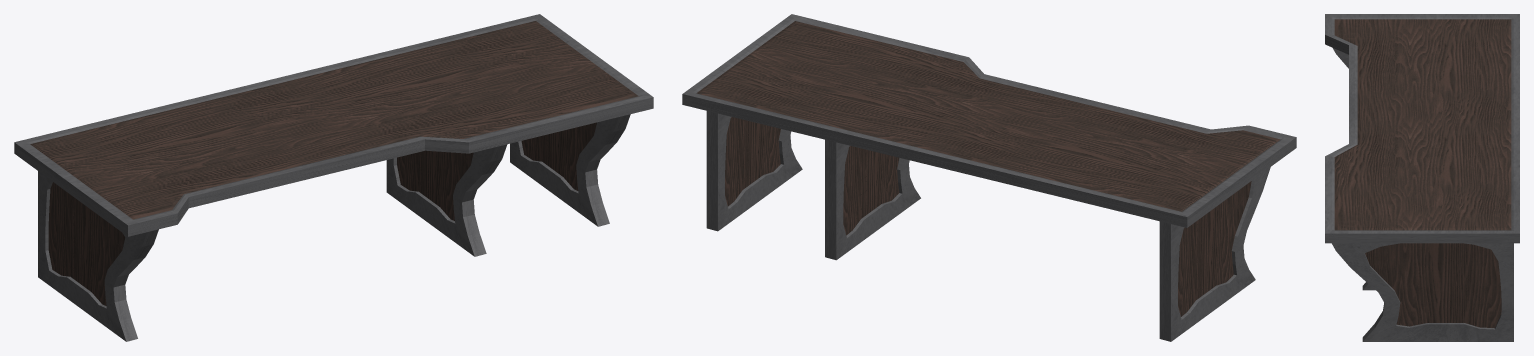
File: Desk.glb
3 renders of one model, left to right at view 1: azimuth 30°, elevation 25°; view 2: azimuth 150°, elevation 25°; view 3: azimuth 270°, elevation 25°, orthographic. The views are drawn at different scales.
Visible parts, largest first — view 1: Desk, DeskLeg, DeskLeg.001, DeskLeg.002; view 2: Desk, DeskLeg, DeskLeg.002, DeskLeg.001; view 3: Desk, DeskLeg.002.
Boxes of the visible parts, bbox=[...] form: Desk: bbox=[14, 14, 653, 236]; DeskLeg: bbox=[38, 171, 158, 341]; DeskLeg.001: bbox=[386, 144, 507, 256]; DeskLeg.002: bbox=[510, 114, 630, 226]; Desk: bbox=[682, 14, 1296, 227]; DeskLeg: bbox=[1159, 167, 1270, 341]; DeskLeg.002: bbox=[706, 111, 802, 231]; DeskLeg.001: bbox=[825, 139, 920, 260]; Desk: bbox=[1325, 14, 1519, 243]; DeskLeg.002: bbox=[1332, 243, 1513, 341].
Bounding box in the file's own units: 4 × 1 × 1.5.
Materials: 2 (2 with a texture image).
